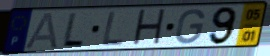9: (207, 6, 240, 46)
A: (23, 11, 59, 50)
G: (174, 8, 207, 46)
H: (131, 7, 168, 48)
L: (100, 10, 126, 48), (60, 12, 86, 48)
